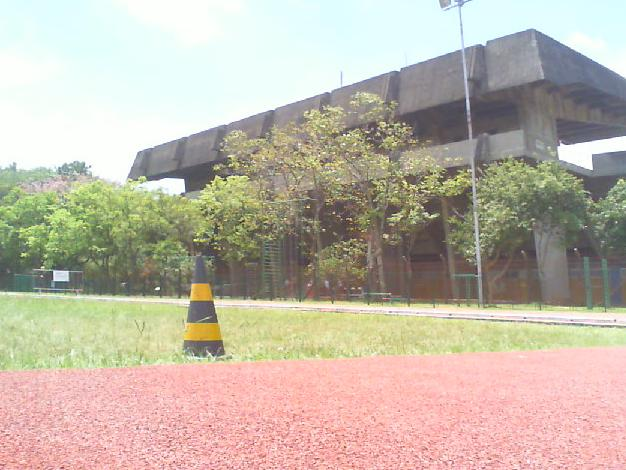0 cone: (183, 259, 231, 360)
